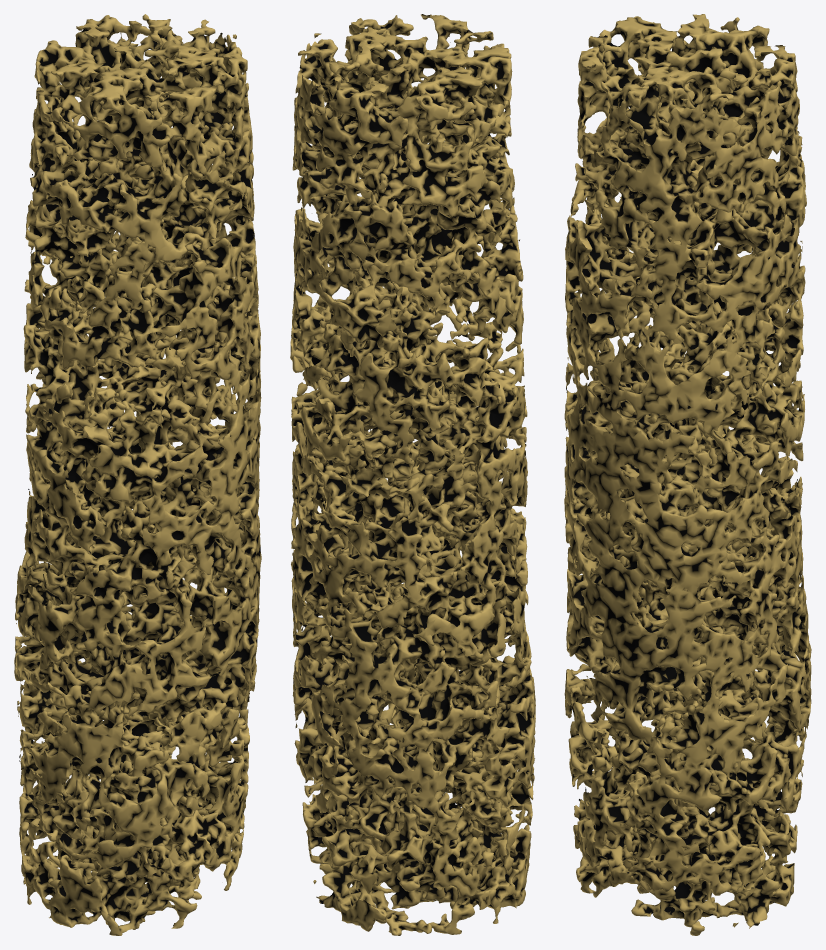
The model's file is sayfer-scaffold-v2.glb.
3 views of the same model, side by side, from view 1: azimuth 30°, elevation 25°; view 2: azimuth 150°, elevation 25°; view 3: azimuth 270°, elevation 25° (orthographic).
Parts seen in each view (by area): view 1: Scaffold_LP_hifi; view 2: Scaffold_LP_hifi; view 3: Scaffold_LP_hifi.
Part boxes in pixels (bbox=[...]): Scaffold_LP_hifi: bbox=[14, 14, 261, 935]; Scaffold_LP_hifi: bbox=[290, 14, 535, 935]; Scaffold_LP_hifi: bbox=[564, 14, 811, 935].
Size of the model in its own units: 0.0388 by 0.1445 by 0.0382.
